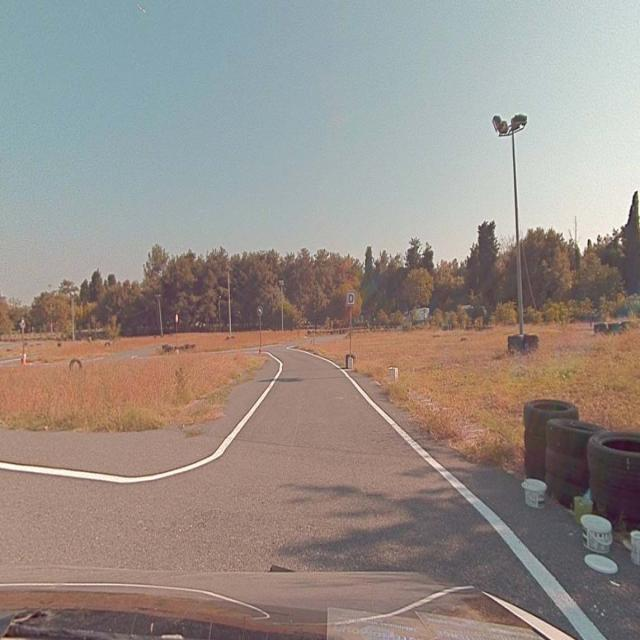durak: (347, 292, 356, 304)
sol: (257, 306, 263, 316)
